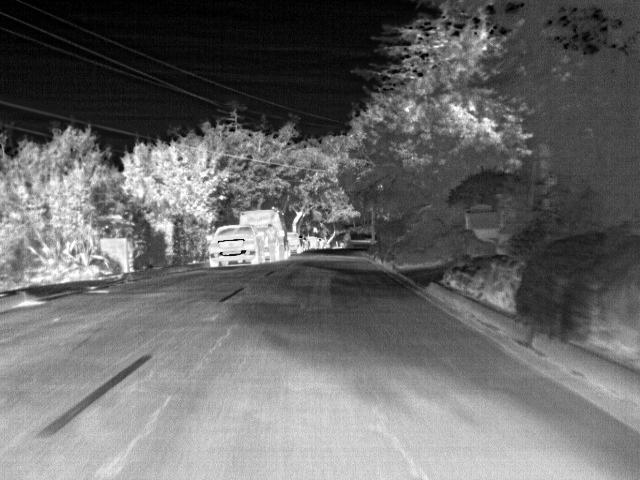car: (208, 223, 265, 268), (286, 235, 310, 253), (321, 237, 334, 250), (308, 236, 320, 250)
person: (265, 223, 279, 263)
